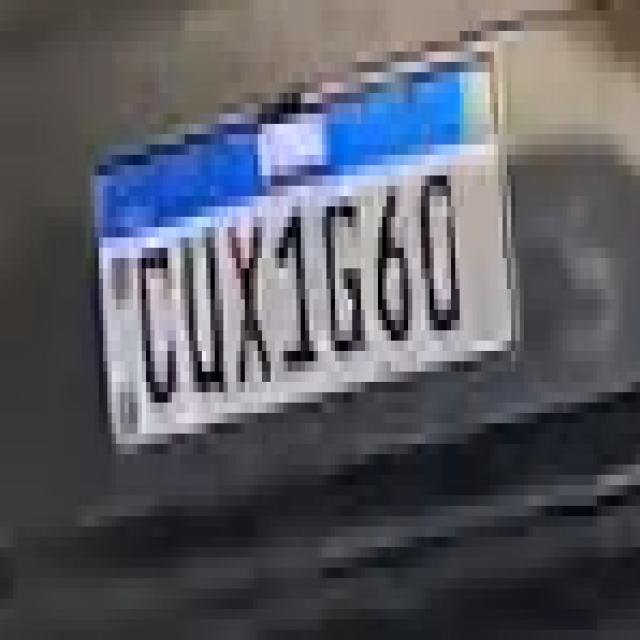Placa_mercosul_carro: (94, 31, 524, 460)
